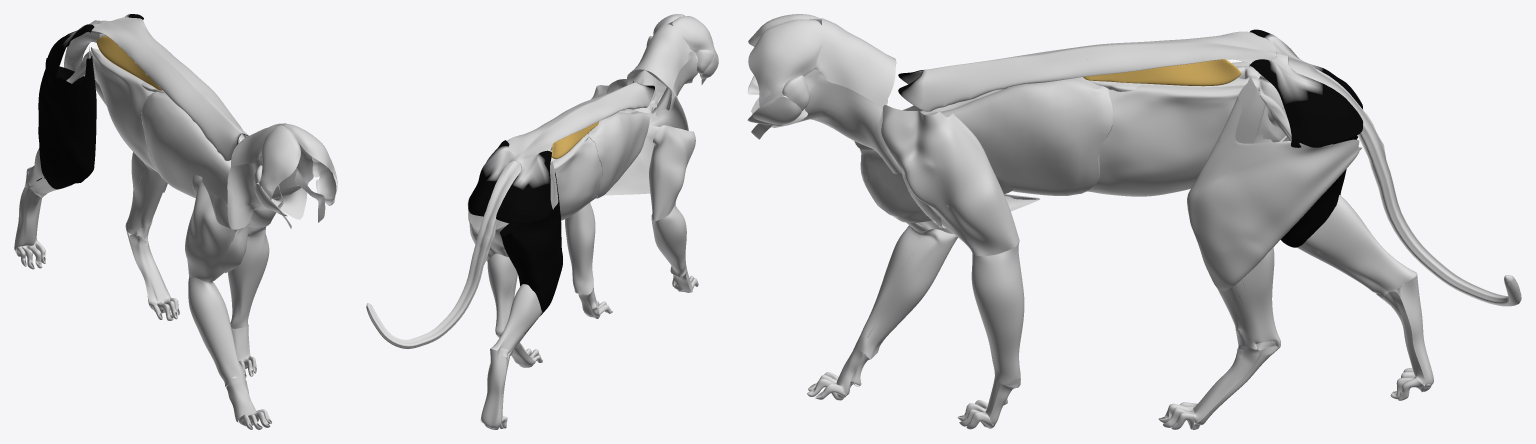
The model's file is Fascias.fbx.
3 views of the same model, side by side, from view 1: azimuth 30°, elevation 25°; view 2: azimuth 150°, elevation 25°; view 3: azimuth 270°, elevation 25° (orthographic). The views are drawn at different scales.
Parts seen in each view (by area): view 1: 2424*4, 2312*2, 2589.r, 2494.r, 2491.r, 2494.l, 2274.r, 2599.l, 2607.l, 2607.r, 2355*1.l, 2588*01 (+14 smaller); view 2: 2424*4, 2312*2, 2588*01, 2589.r, 2491.r, 2494.l, 2599.r, 2494.r, 2599.l, 2364.r, 2608.r, 2274.r (+3 smaller); view 3: 2424*4, 2589.l, 2312*2, 2491.l, 2588*01, 2494.r, 2494.l, 2599.r, 2274.l, 2599.l, 2364.r, 2355*1.l (+7 smaller).
Part boxes in pixels (x1=…): 2424*4: x1=64, y1=20, x2=313, y2=229; 2312*2: x1=91, y1=17, x2=303, y2=166; 2589.r: x1=38, y1=47, x2=96, y2=189; 2494.r: x1=188, y1=277, x2=245, y2=386; 2491.r: x1=185, y1=175, x2=235, y2=282; 2494.l: x1=227, y1=229, x2=269, y2=328; 2274.r: x1=259, y1=125, x2=300, y2=199; 2599.l: x1=125, y1=152, x2=166, y2=237; 2607.l: x1=129, y1=234, x2=170, y2=305; 2607.r: x1=14, y1=187, x2=41, y2=250; 2355*1.l: x1=96, y1=36, x2=168, y2=90; 2588*01: x1=46, y1=14, x2=143, y2=77; 2424*4: x1=366, y1=50, x2=697, y2=348; 2312*2: x1=507, y1=24, x2=690, y2=157; 2588*01: x1=468, y1=140, x2=553, y2=223; 2589.r: x1=500, y1=172, x2=562, y2=315; 2491.r: x1=649, y1=125, x2=695, y2=220; 2494.l: x1=565, y1=202, x2=595, y2=294; 2599.r: x1=490, y1=284, x2=542, y2=357; 2494.r: x1=651, y1=205, x2=686, y2=277; 2599.l: x1=487, y1=253, x2=517, y2=334; 2364.r: x1=604, y1=125, x2=660, y2=195; 2608.r: x1=481, y1=348, x2=506, y2=428; 2274.r: x1=672, y1=16, x2=718, y2=59; 2424*4: x1=771, y1=53, x2=1521, y2=306; 2589.l: x1=1187, y1=84, x2=1361, y2=291; 2312*2: x1=816, y1=18, x2=1276, y2=111; 2491.l: x1=881, y1=105, x2=1019, y2=256; 2588*01: x1=1249, y1=29, x2=1363, y2=147; 2494.r: x1=856, y1=225, x2=957, y2=359; 2494.l: x1=971, y1=242, x2=1024, y2=387; 2599.r: x1=1297, y1=195, x2=1416, y2=297; 2274.l: x1=748, y1=19, x2=825, y2=107; 2599.l: x1=1217, y1=247, x2=1280, y2=349; 2364.r: x1=860, y1=149, x2=1039, y2=223; 2355*1.l: x1=1083, y1=59, x2=1241, y2=86.
Size of the model in its own units: 13.91 by 28.09 by 49.9.
